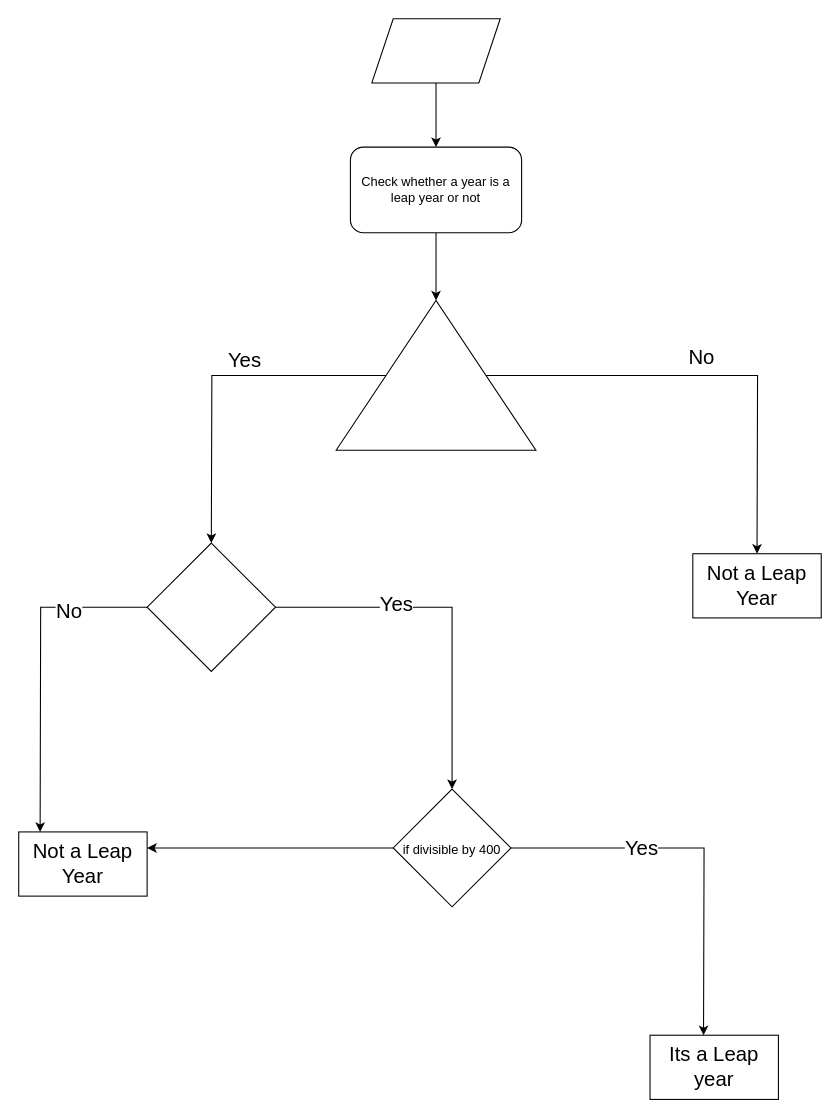
The diagram is 840 pixels wide and 1118 high, and some of its shapes have lost their labels. The centre of each missing label's shape, as x and y in pixels:
"if divisible by 100" belongs at (x=211, y=606).
"If Divisible by 4" belongs at (x=435, y=374).
"Start" belongs at (x=435, y=50).
